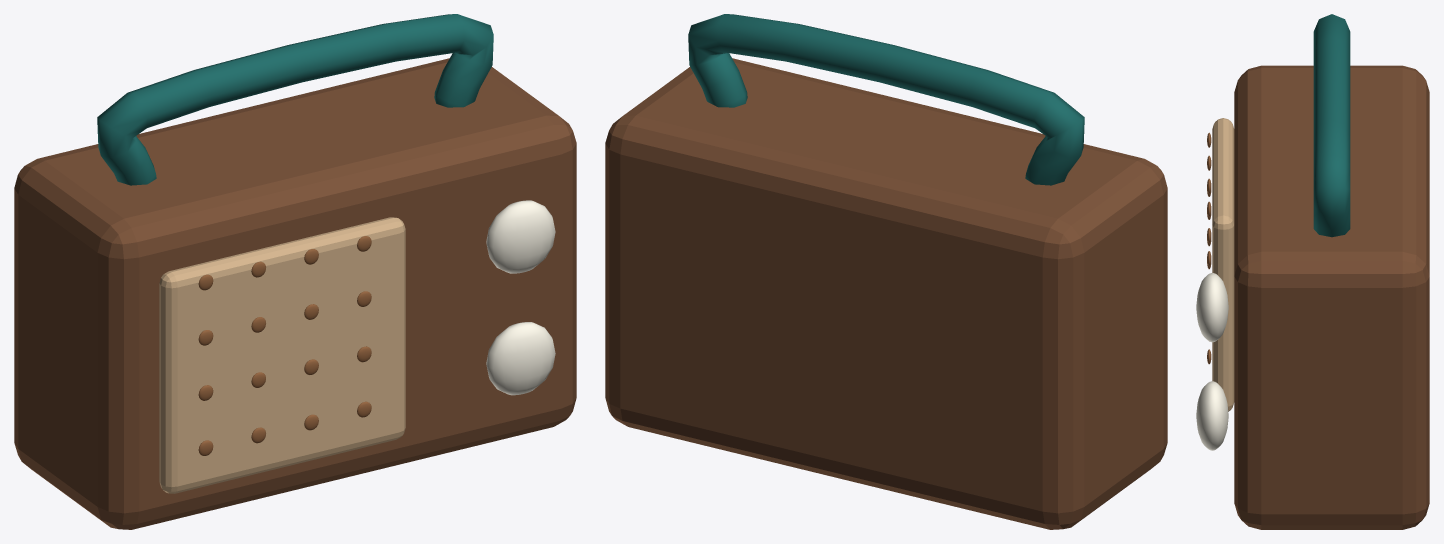
File: radio.glb
The picture shows the model from 3 angles, left to right: view 1: azimuth 30°, elevation 25°; view 2: azimuth 150°, elevation 25°; view 3: azimuth 270°, elevation 25°; orthographic projection. The views are drawn at different scales.
Visible parts, largest first — view 1: Case, Speaker, Handle, Knob, Knob.001; view 2: Case, Handle; view 3: Case, Handle, Speaker, Knob, Knob.001.
Part boxes in pixels (bbox=[...]): Case: bbox=[14, 58, 576, 529]; Speaker: bbox=[159, 217, 405, 493]; Handle: bbox=[97, 14, 493, 185]; Knob: bbox=[486, 322, 555, 395]; Knob.001: bbox=[486, 200, 555, 273]; Case: bbox=[605, 58, 1167, 529]; Handle: bbox=[688, 14, 1084, 185]; Case: bbox=[1234, 65, 1429, 529]; Handle: bbox=[1313, 14, 1350, 237]; Speaker: bbox=[1212, 118, 1234, 411]; Knob: bbox=[1196, 381, 1228, 450]; Knob.001: bbox=[1196, 273, 1228, 342].
Bounding box in the file's own units: 0.45 × 0.3645 × 0.215.
